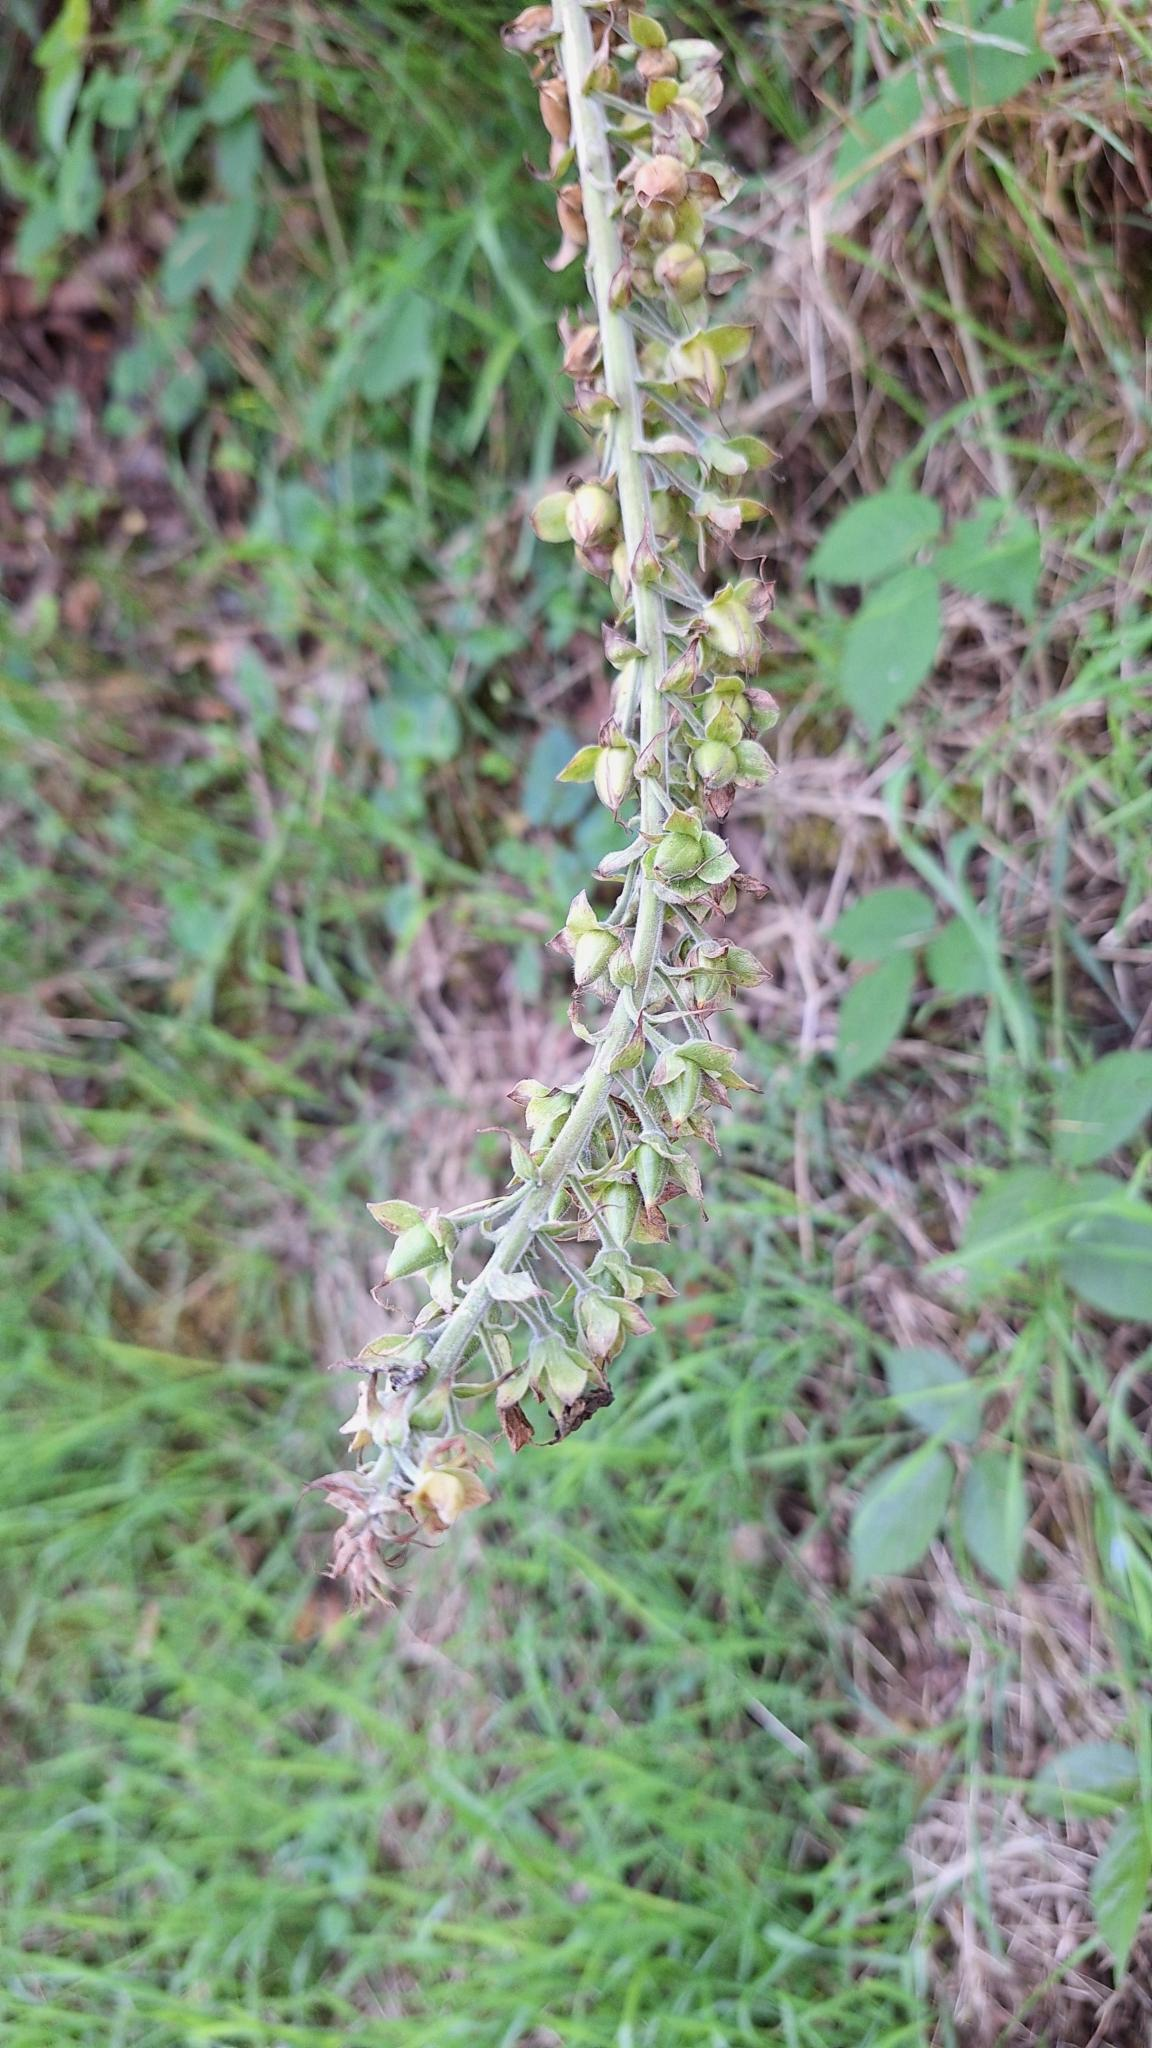Digitalis L: (331, 0, 762, 1602)
